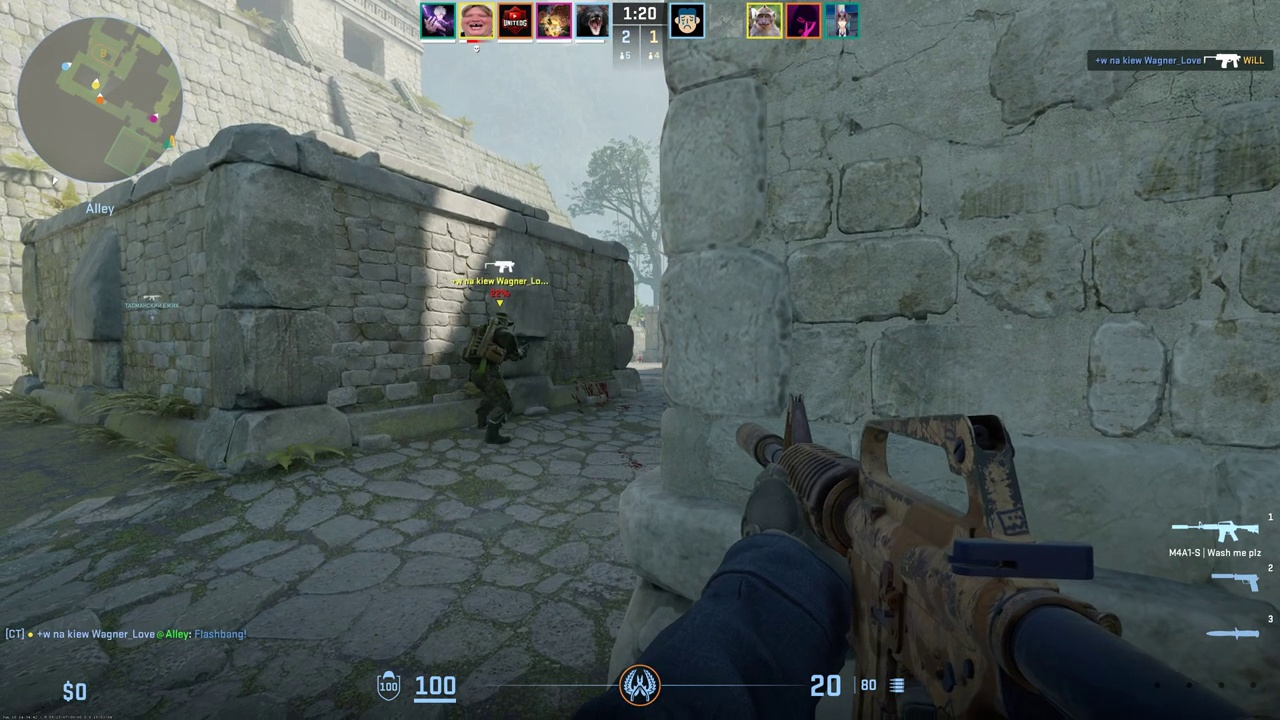CT: (470, 311, 518, 444)
